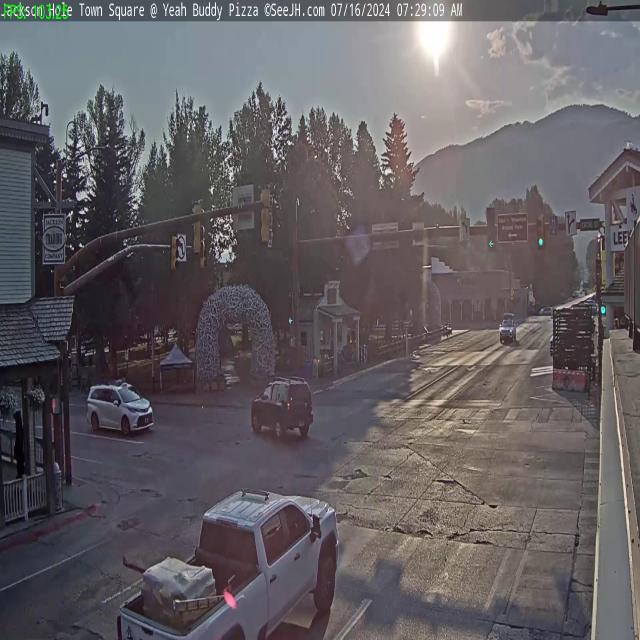pickup: (113, 482, 341, 640)
suv: (248, 371, 315, 446), (87, 377, 154, 438), (499, 313, 517, 342)
traffic light: (260, 184, 273, 244), (190, 200, 203, 256), (487, 206, 496, 250), (172, 233, 180, 274), (537, 214, 546, 248)
